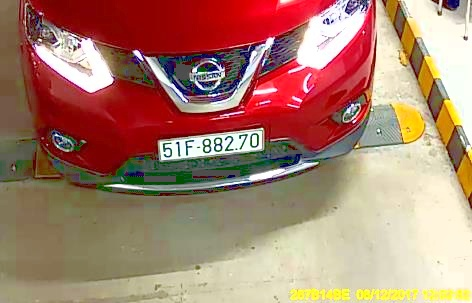plate: (153, 127, 268, 161)
